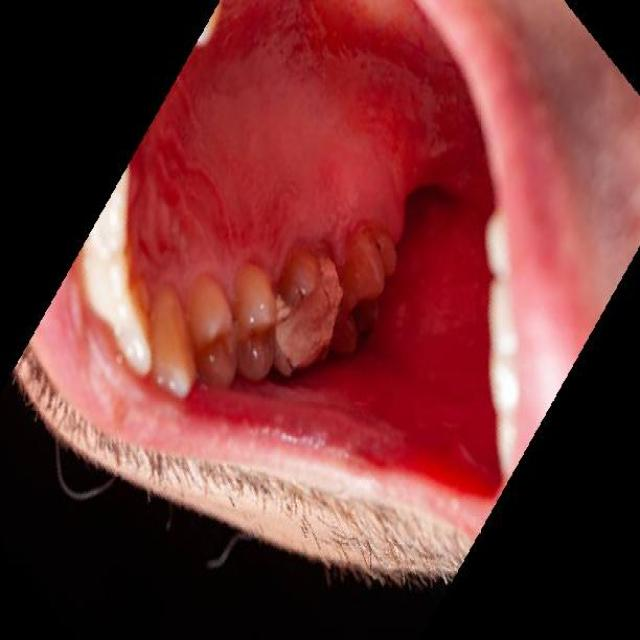caries: (280, 259, 336, 372)
